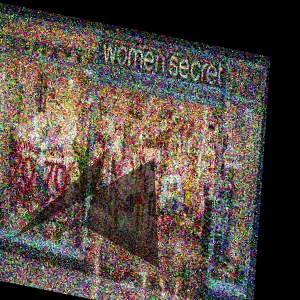women_secret: (158, 41, 270, 75)
